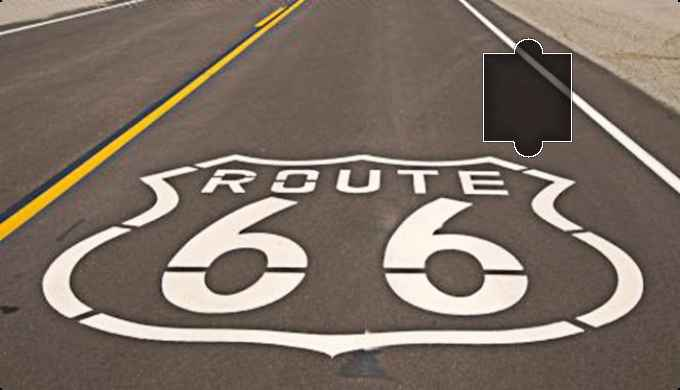gap: (484, 37, 573, 160)
